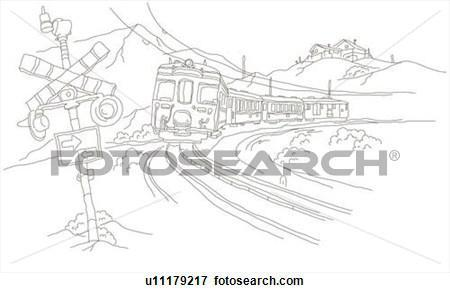train: (150, 55, 353, 149)
